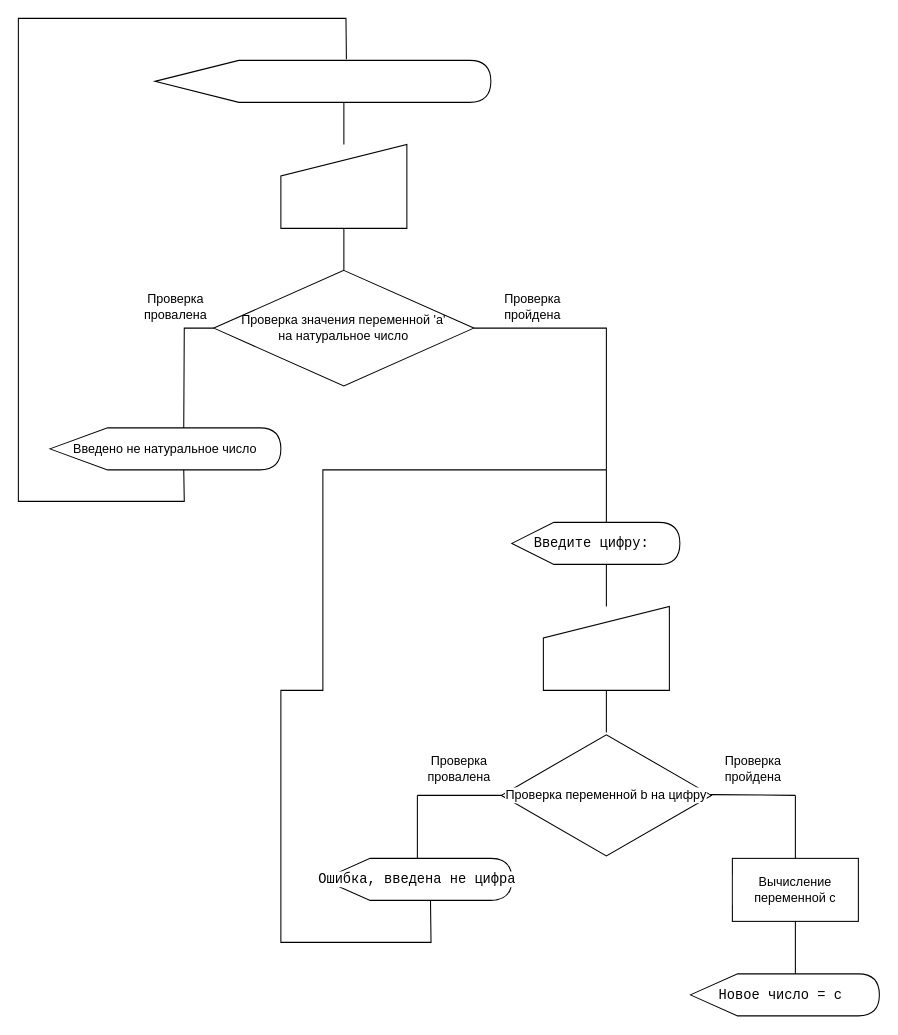
Image size: 898x1035. Some labels were removed from this diagram. Here are the shapes that lost their labels. From the top down, the box of each, then its label:
(154, 59, 491, 102): Введите первое натуральное чило:
(280, 143, 407, 228): Ввод значения переменной 'a'
(542, 605, 669, 690): Ввод значения переменной 'b'
